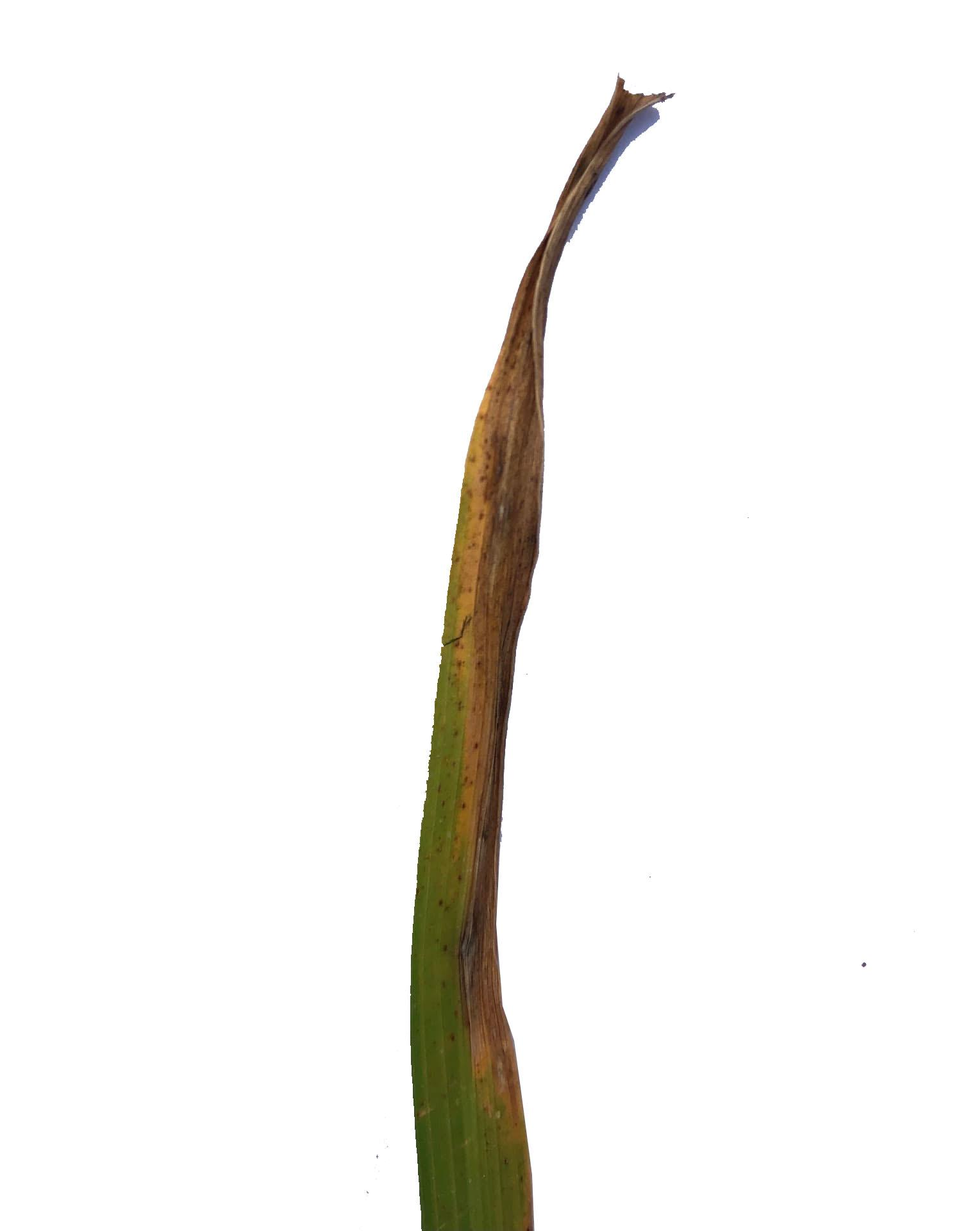Tungro: (410, 77, 669, 1231)
